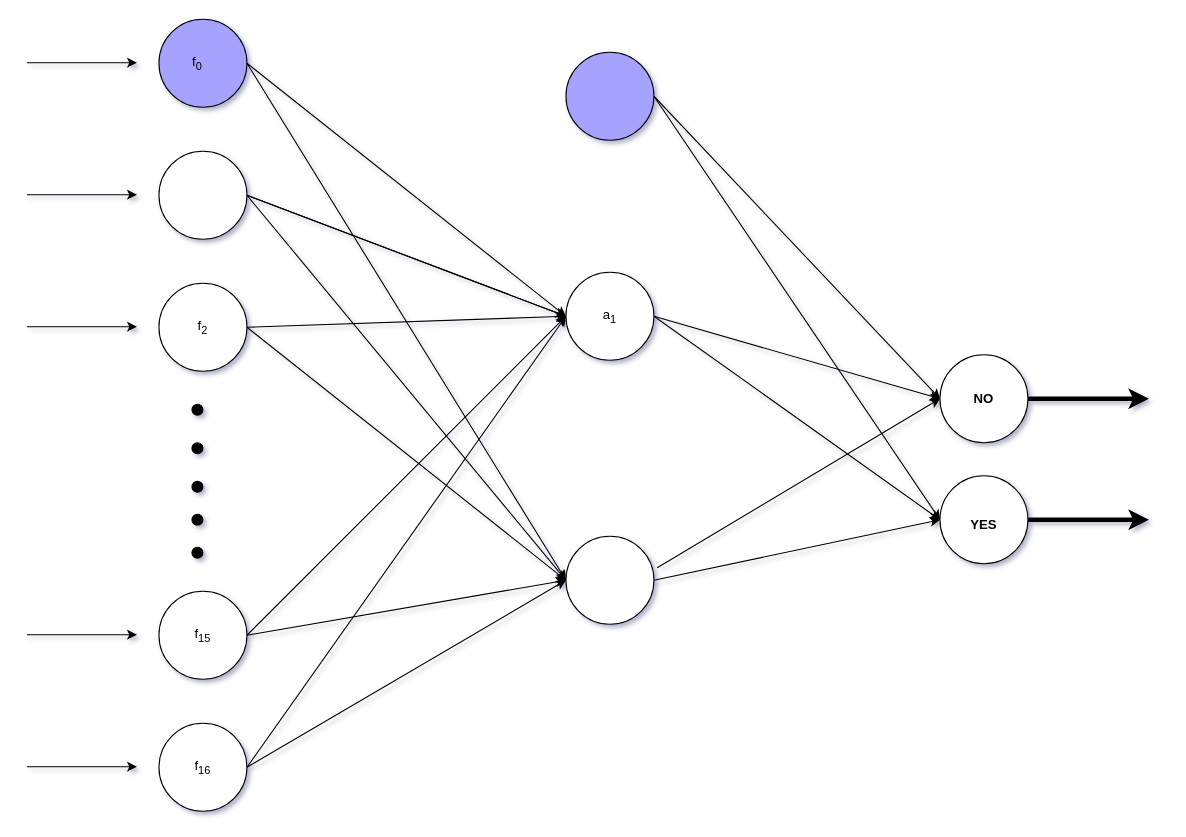
Image size: 1186x837. Some labels were removed from this diagram. The centre of each missing label's shape, as x and y in pixels:
a 2: point (609, 579)
f 1: point (202, 194)
